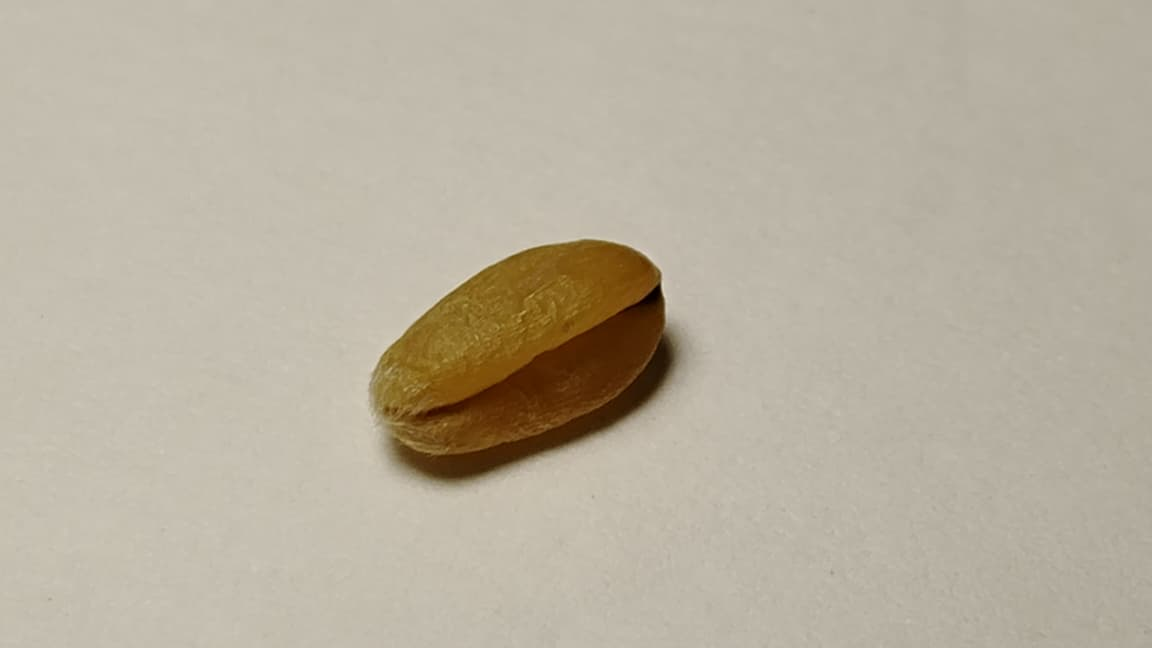healthy: (371, 240, 664, 453)
